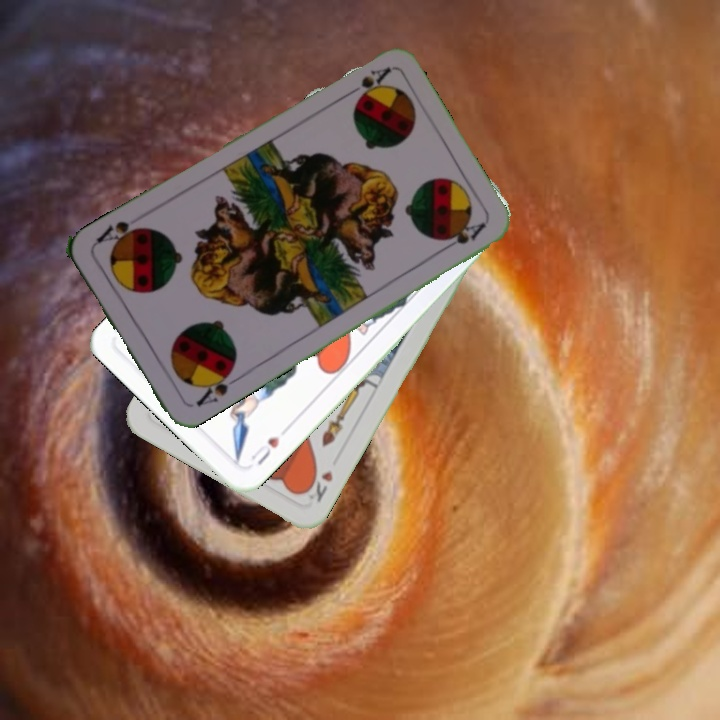HK: (299, 465, 336, 505)
HU: (246, 432, 283, 468)
SA: (192, 365, 241, 409), (340, 62, 393, 102)
